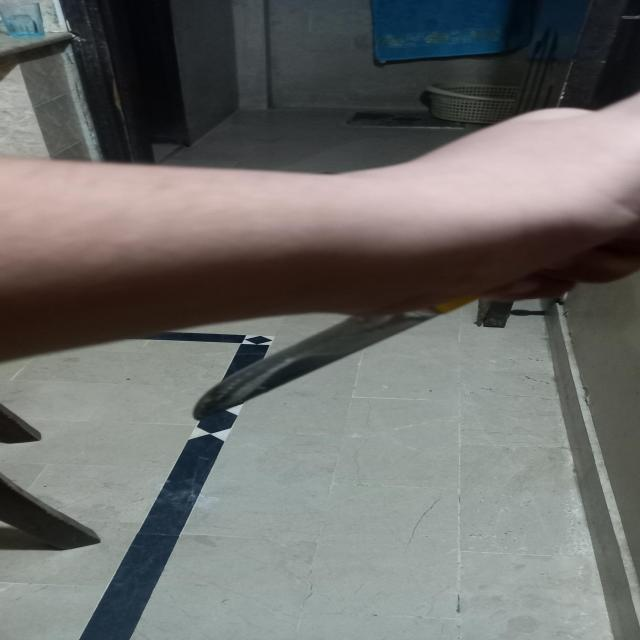Knife: (181, 283, 524, 415)
